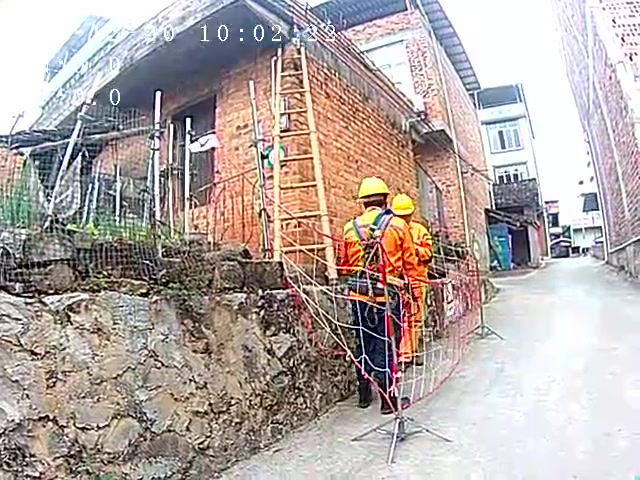halt: (359, 180, 393, 216), (393, 197, 418, 225)
